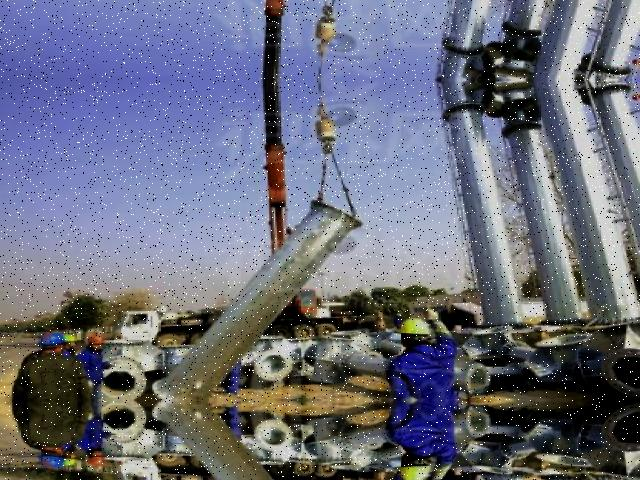Helmet: (390, 312, 434, 338)
